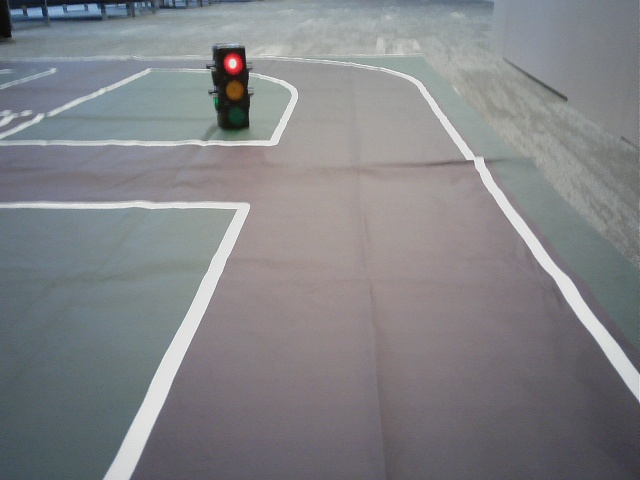red: (221, 49, 247, 125)
